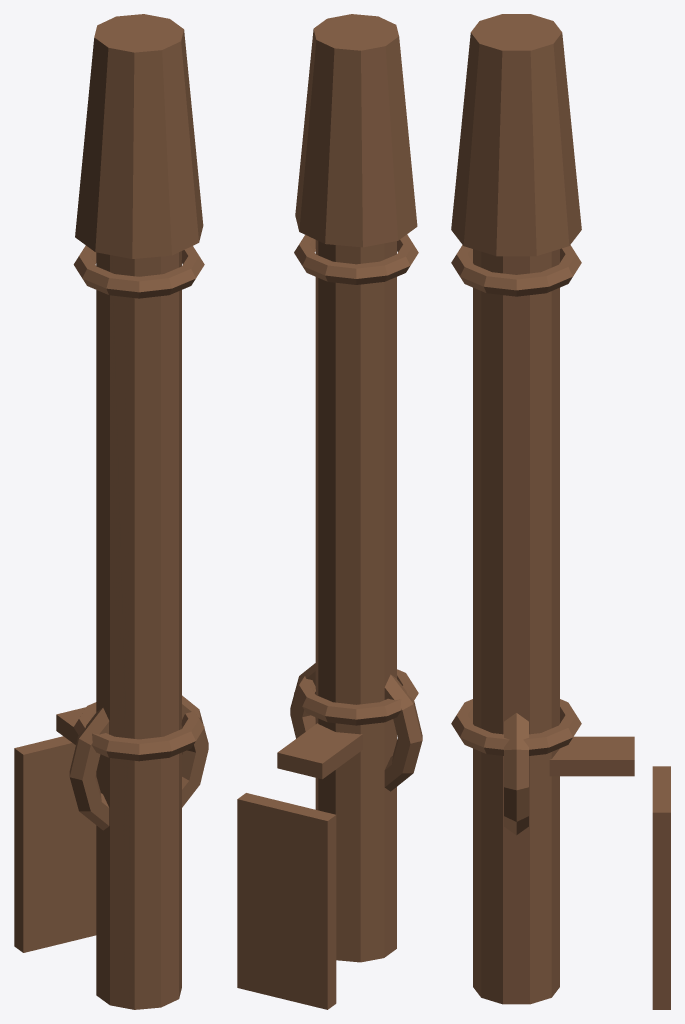
File: torch_wall.glb
The picture shows the model from 3 angles, left to right: view 1: azimuth 30°, elevation 25°; view 2: azimuth 150°, elevation 25°; view 3: azimuth 270°, elevation 25°; orthographic projection. The views are drawn at different scales.
Parts seen in each view (by area): view 1: torch_wall; view 2: torch_wall; view 3: torch_wall.
Boxes of the visible parts, x1,y1,x2,y2 form: torch_wall: (14, 14, 208, 1009); torch_wall: (237, 14, 422, 1009); torch_wall: (451, 14, 670, 1009).
Size of the model in its own units: 0.044 by 0.29 by 0.0605.
